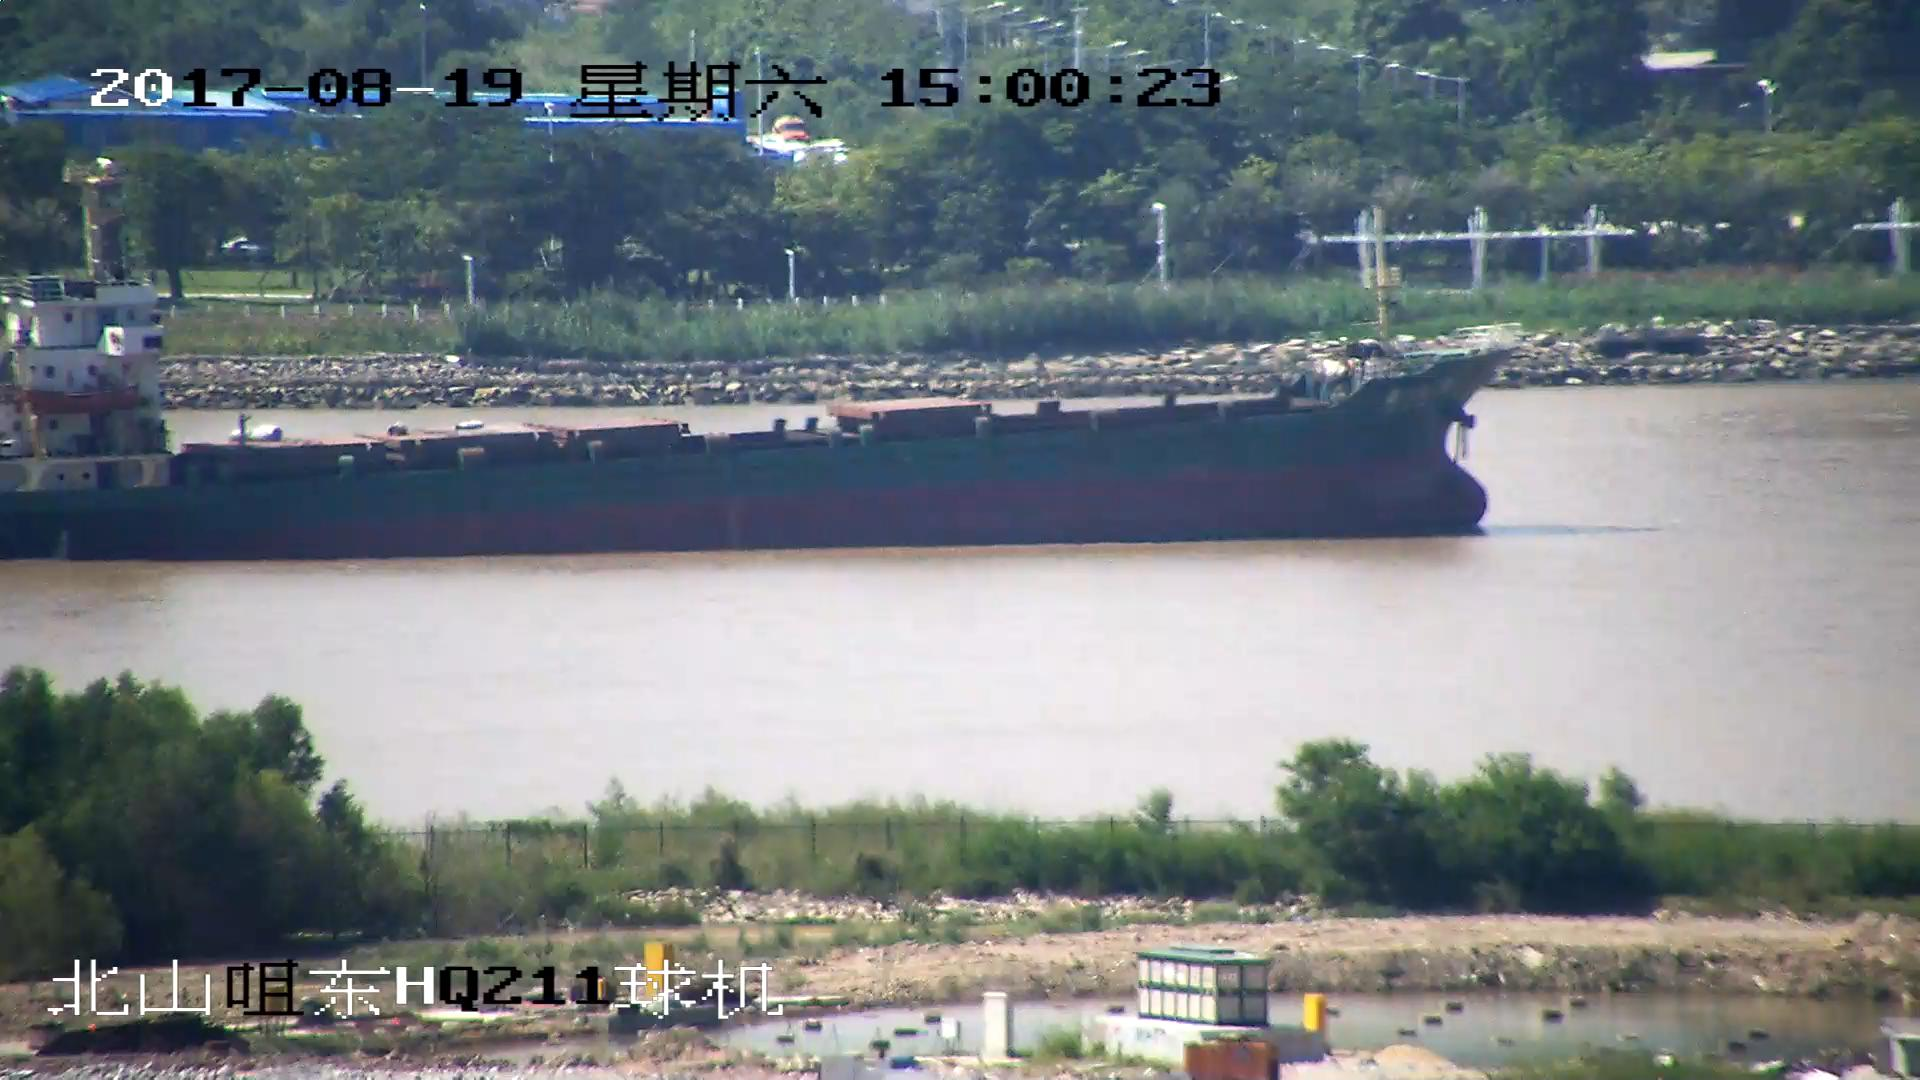general cargo ship: (1, 255, 1498, 556)
